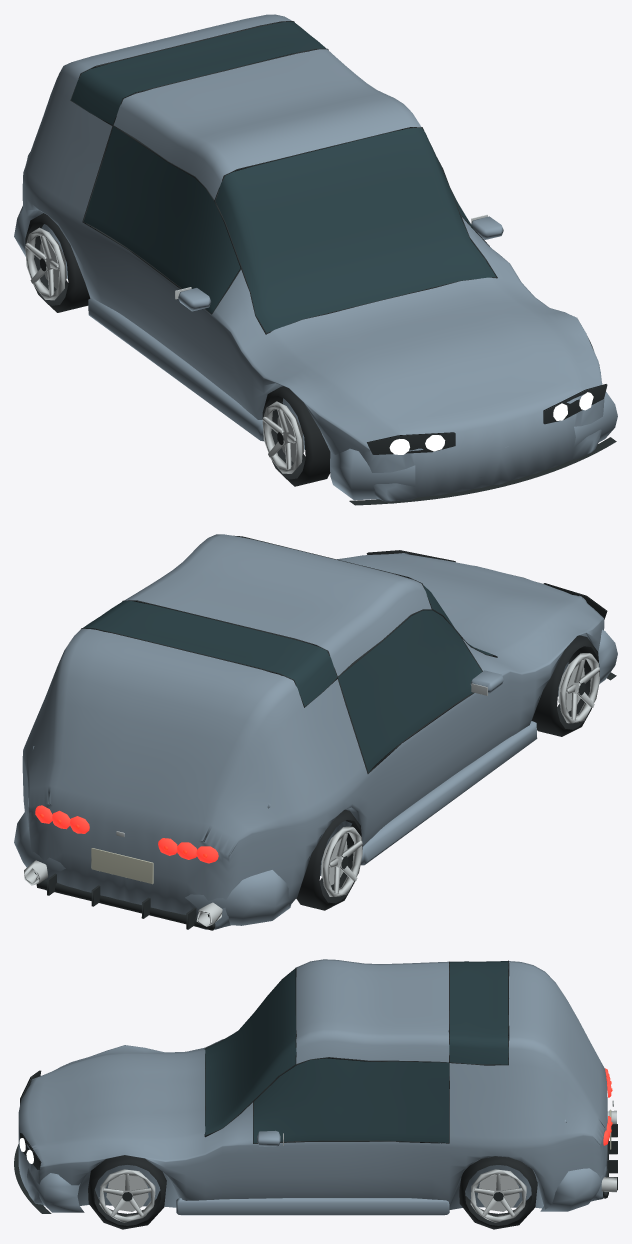
The model's file is uldessa-nolvar.glb.
3 renders of one model, top to bottom at view 1: azimuth 30°, elevation 25°; view 2: azimuth 150°, elevation 25°; view 3: azimuth 270°, elevation 25°, orthographic. The views are drawn at different scales.
Visible parts, largest first — view 1: scocca, cristallo_ant, cofano, tetto, cristallo_sx, porta_sx, cristallo_post, minigonna_sx, paraurti_ant, portellone, ruota_ant_sx_gomma, ruota_post_sx_gomma (+10 smaller); view 2: scocca, portellone, tetto, cristallo_sx, cofano, cristallo_post, porta_sx, minigonna_sx, paraurti_post, ruota_ant_sx_gomma, ruota_post_sx_gomma, targa (+8 smaller); view 3: scocca, tetto, cristallo_dx, cofano, porta_dx, portellone, cristallo_ant, cristallo_post, minigonna_dx, ruota_ant_dx_gomma, ruota_post_dx_gomma, paraurti_post (+10 smaller).
Boxes of the visible parts, box(x1,y1,x2,y2) form: scocca: box(22, 90, 604, 503); cristallo_ant: box(215, 128, 495, 332); cofano: box(266, 277, 582, 427); tetto: box(113, 49, 421, 199); cristallo_sx: box(83, 126, 240, 313); porta_sx: box(82, 223, 226, 393); cristallo_post: box(71, 21, 325, 124); minigonna_sx: box(88, 298, 263, 441); paraurti_ant: box(330, 392, 617, 500); portellone: box(51, 14, 291, 99); ruota_ant_sx_gomma: box(262, 386, 330, 486); ruota_post_sx_gomma: box(25, 213, 90, 312); scocca: box(22, 553, 604, 929); portellone: box(43, 628, 303, 844); tetto: box(124, 534, 431, 676); cristallo_sx: box(338, 610, 481, 772); cofano: box(338, 554, 582, 657); cristallo_post: box(83, 601, 337, 706); porta_sx: box(362, 687, 500, 846); minigonna_sx: box(360, 721, 537, 865); paraurti_post: box(14, 810, 290, 925); ruota_ant_sx_gomma: box(531, 635, 599, 736); ruota_post_sx_gomma: box(296, 809, 362, 910); targa: box(91, 848, 153, 884); scocca: box(18, 1039, 607, 1209); tetto: box(296, 959, 449, 1063); cristallo_dx: box(253, 1058, 449, 1143); cofano: box(40, 1049, 205, 1149); porta_dx: box(238, 1141, 449, 1203); portellone: box(509, 961, 607, 1131); cristallo_ant: box(205, 968, 296, 1135); cristallo_post: box(449, 961, 508, 1064); minigonna_dx: box(176, 1198, 449, 1215); ruota_ant_dx_gomma: box(88, 1155, 166, 1229); ruota_post_dx_gomma: box(459, 1156, 537, 1229); paraurti_post: box(540, 1166, 606, 1211).
Size of the model in its own units: 2.43 by 1.71 by 5.18.
